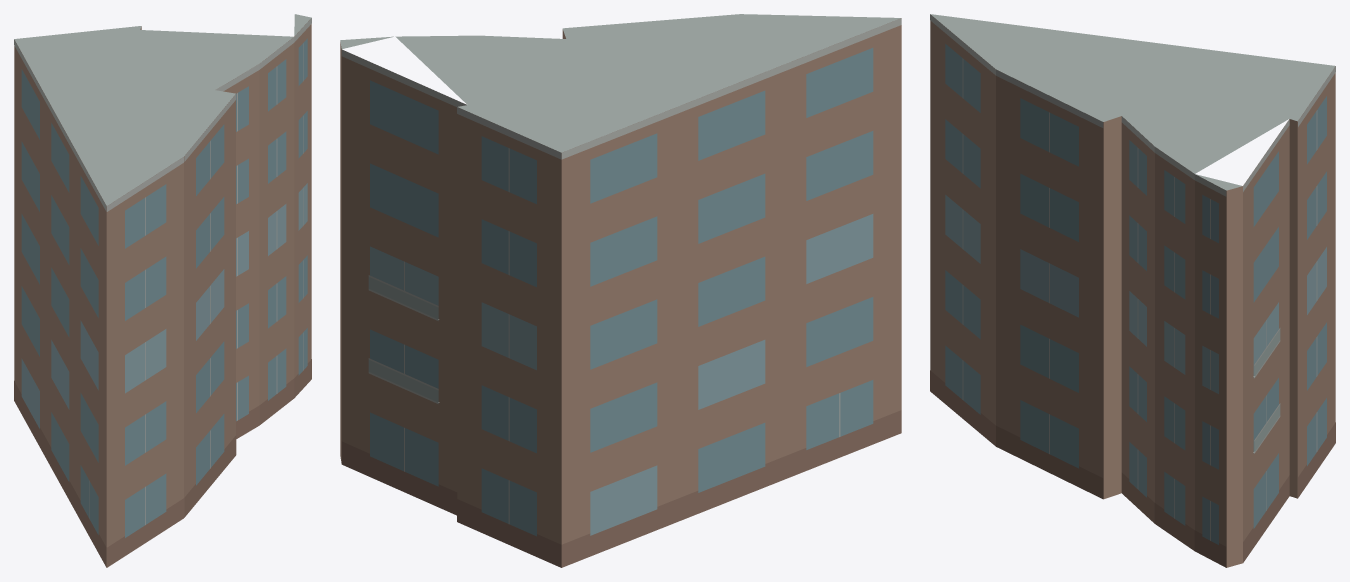
The model's file is survey-upis-32470655.glb.
3 renders of one model, left to right at view 1: azimuth 30°, elevation 25°; view 2: azimuth 150°, elevation 25°; view 3: azimuth 270°, elevation 25°, orthographic. The views are drawn at different scales.
Parts seen in each view (by area): view 1: survey-upis-32470655.tmp; view 2: survey-upis-32470655.tmp; view 3: survey-upis-32470655.tmp.
Part boxes in pixels (x1,y1,x2,y2): survey-upis-32470655.tmp: (14,14,311,567); survey-upis-32470655.tmp: (340,14,901,567); survey-upis-32470655.tmp: (930,14,1335,567).
Size of the model in its own units: 14.67 by 14.6 by 14.23.
